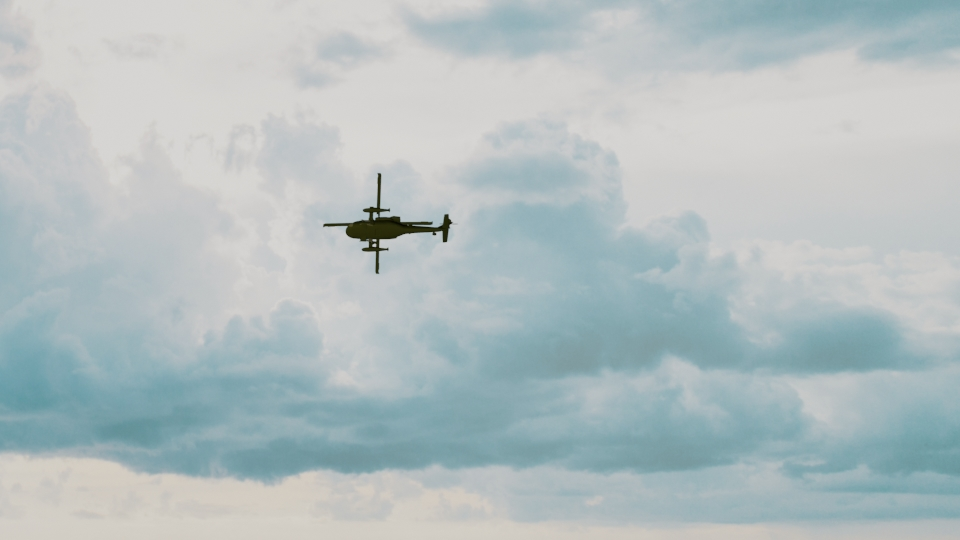heli: (321, 169, 454, 274)
